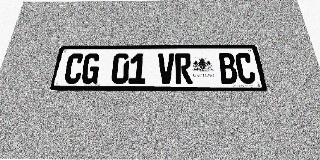0: (111, 53, 130, 84)
1: (128, 53, 146, 84)
B: (217, 53, 239, 84)
C: (234, 53, 257, 84), (63, 53, 85, 84)
G: (80, 53, 101, 84)
R: (175, 53, 193, 84)
V: (158, 53, 175, 84)
